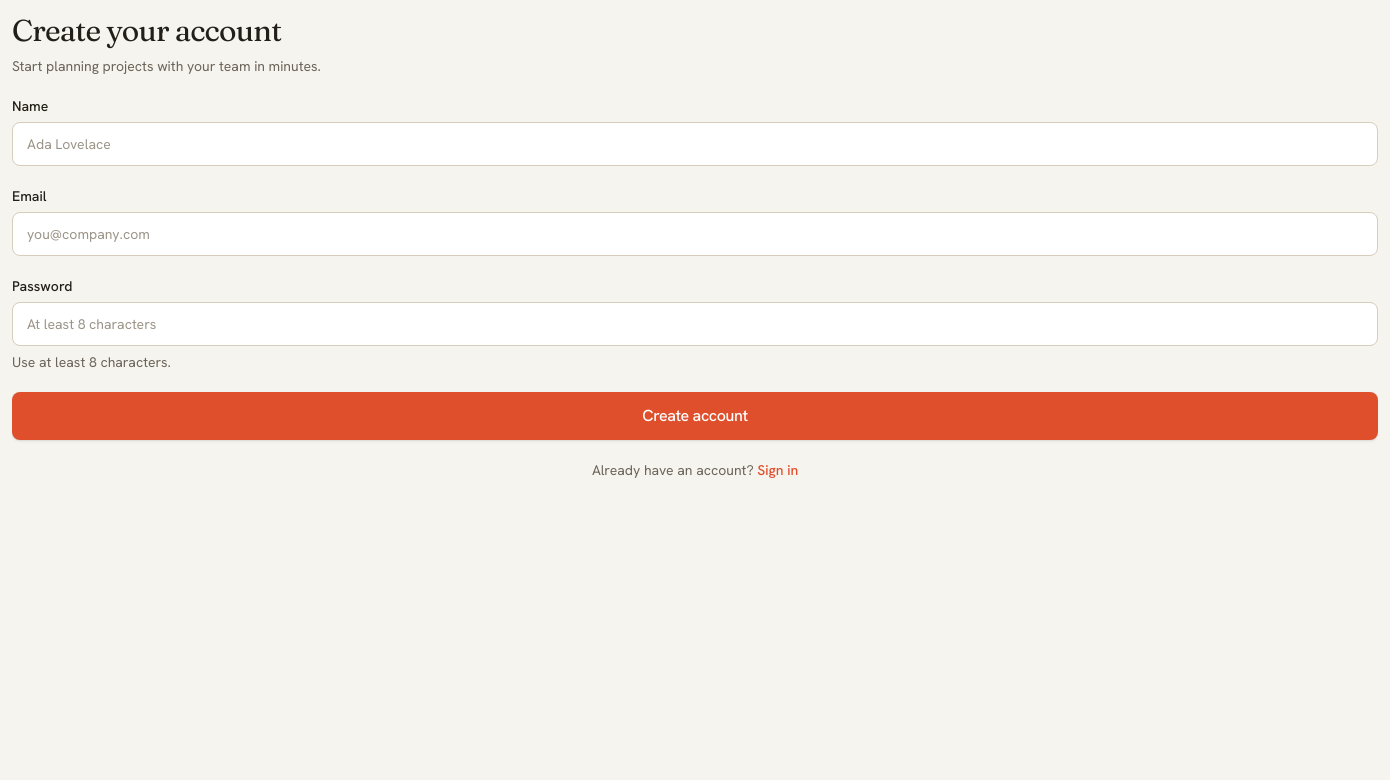
it: SignupForm › shows a server error when the email is already registered
Type "Ada" into the field labelled "Name" at (695,144), box [12,122,1378,166]
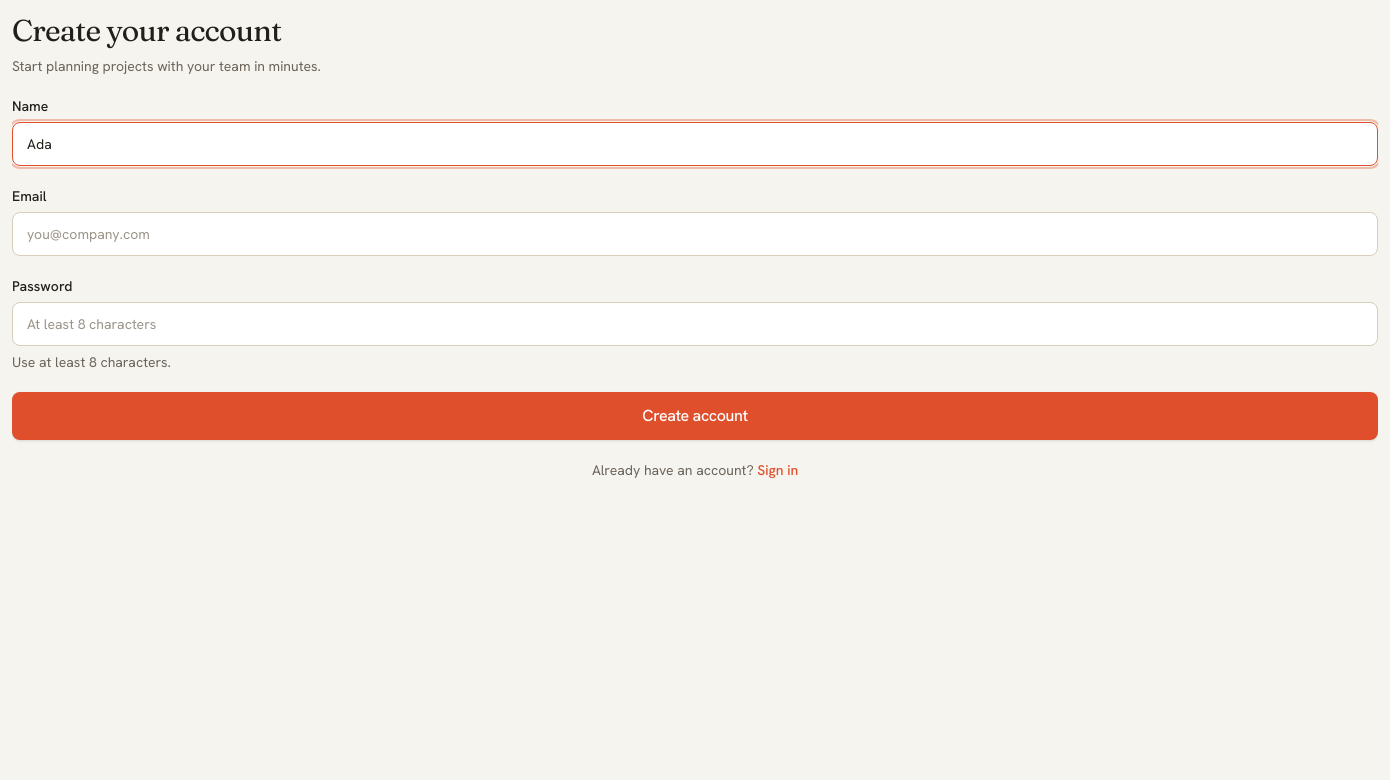
Type "ada@example.com" into the field labelled "Email" at (695,234), box [12,212,1378,256]
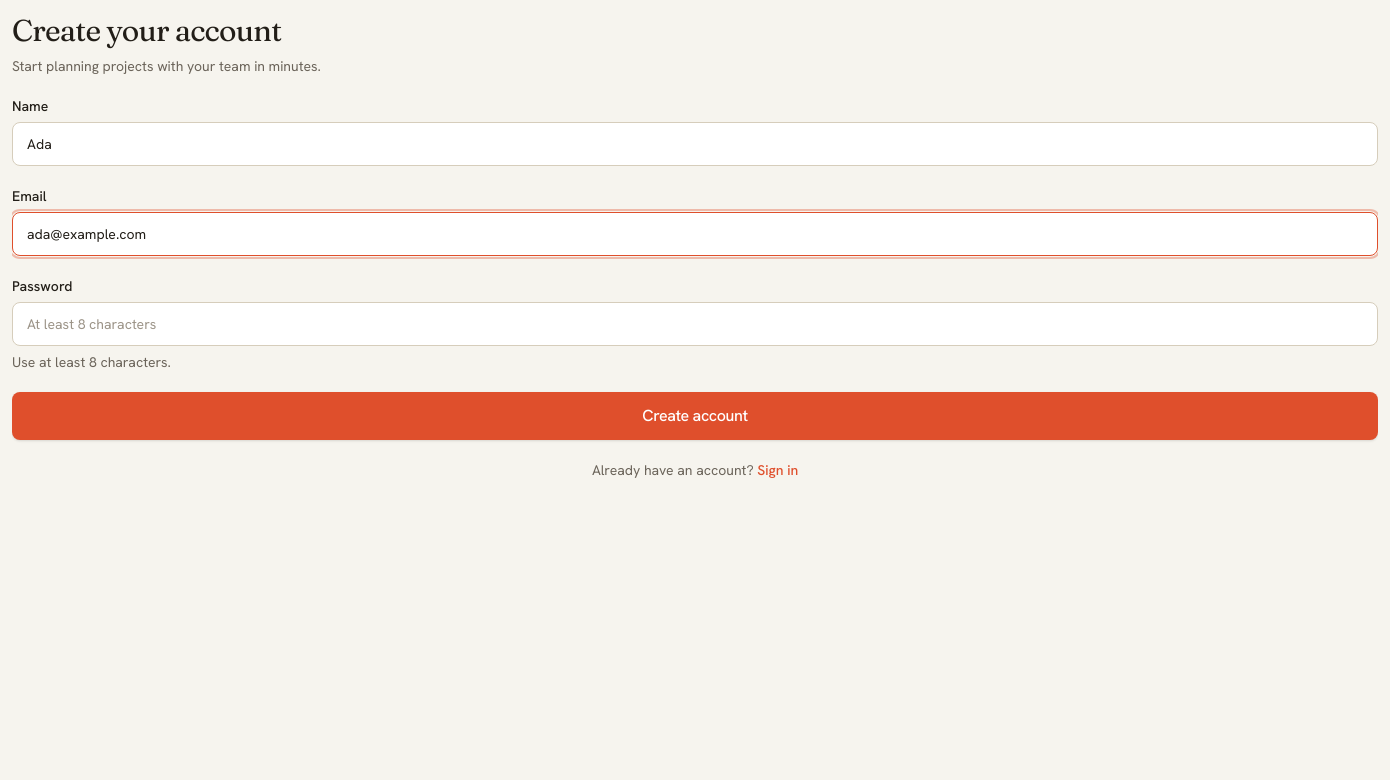
Type "secret12" into the password field labelled "Password" at (695,324), box [12,302,1378,346]
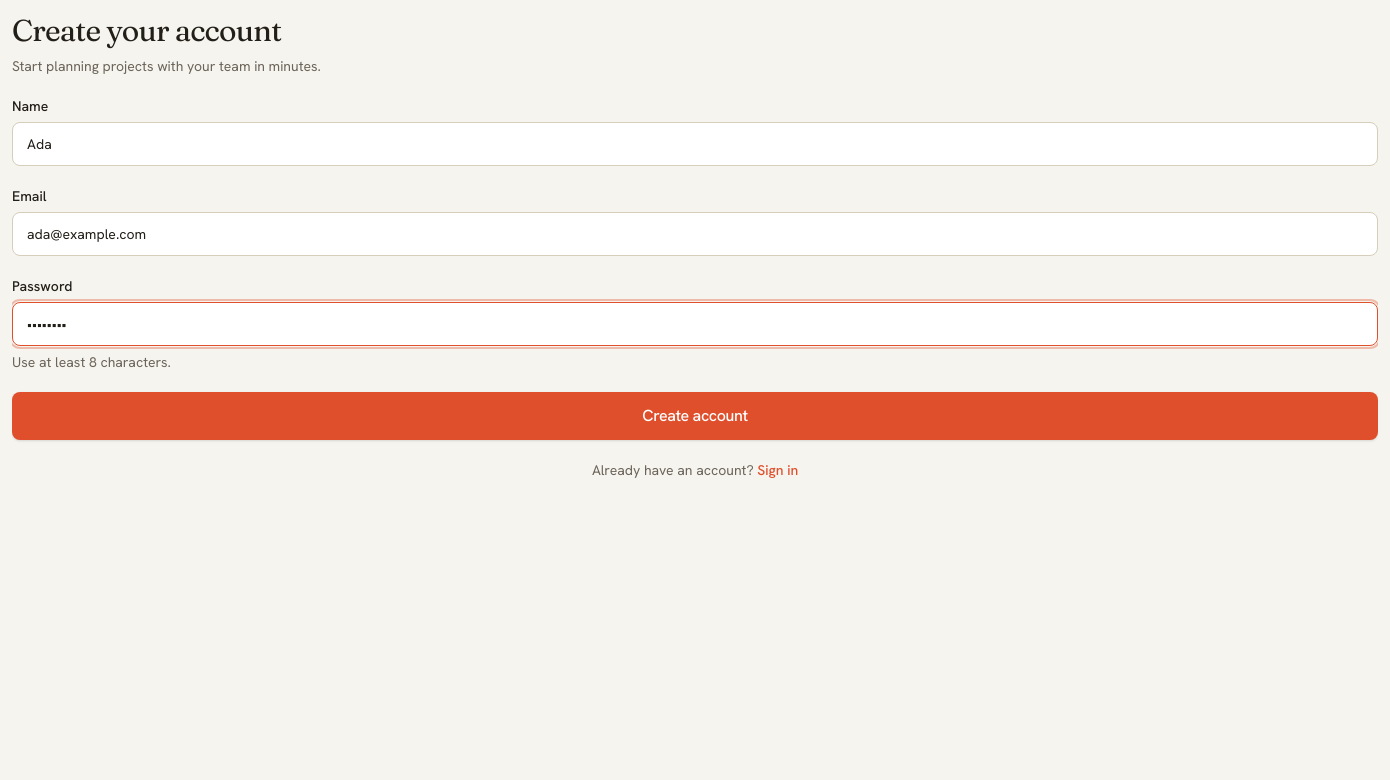
Click the button "Create account" at (695,416), box [12,392,1378,440]
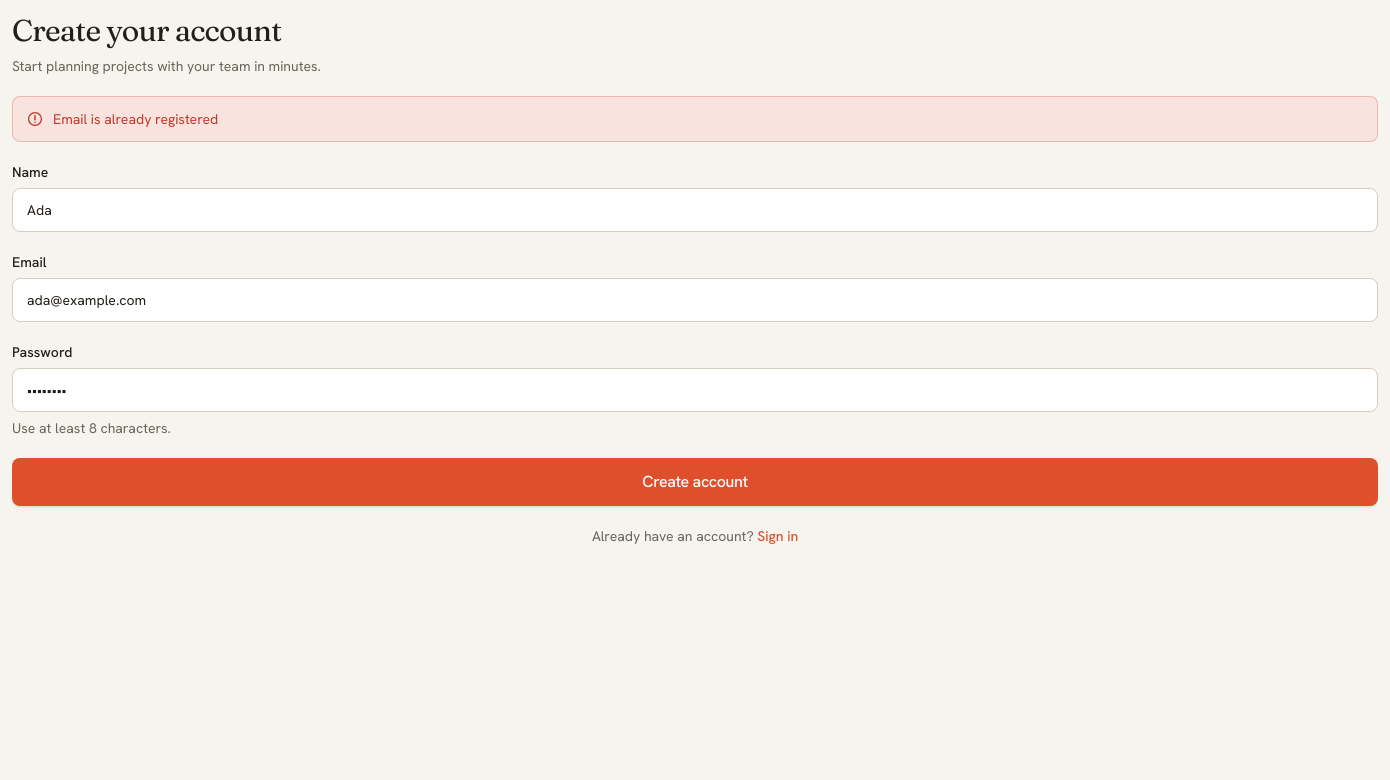
Expected: the message reads "Email is already registered", [53,110,218,128]
